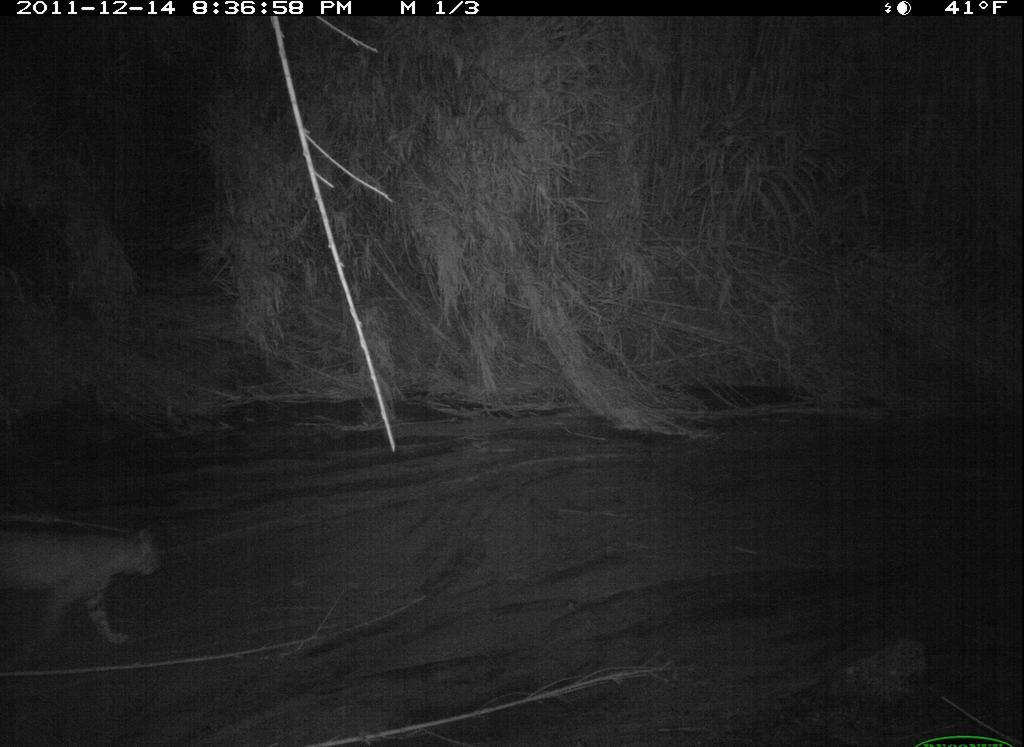bobcat: (2, 511, 168, 662)
